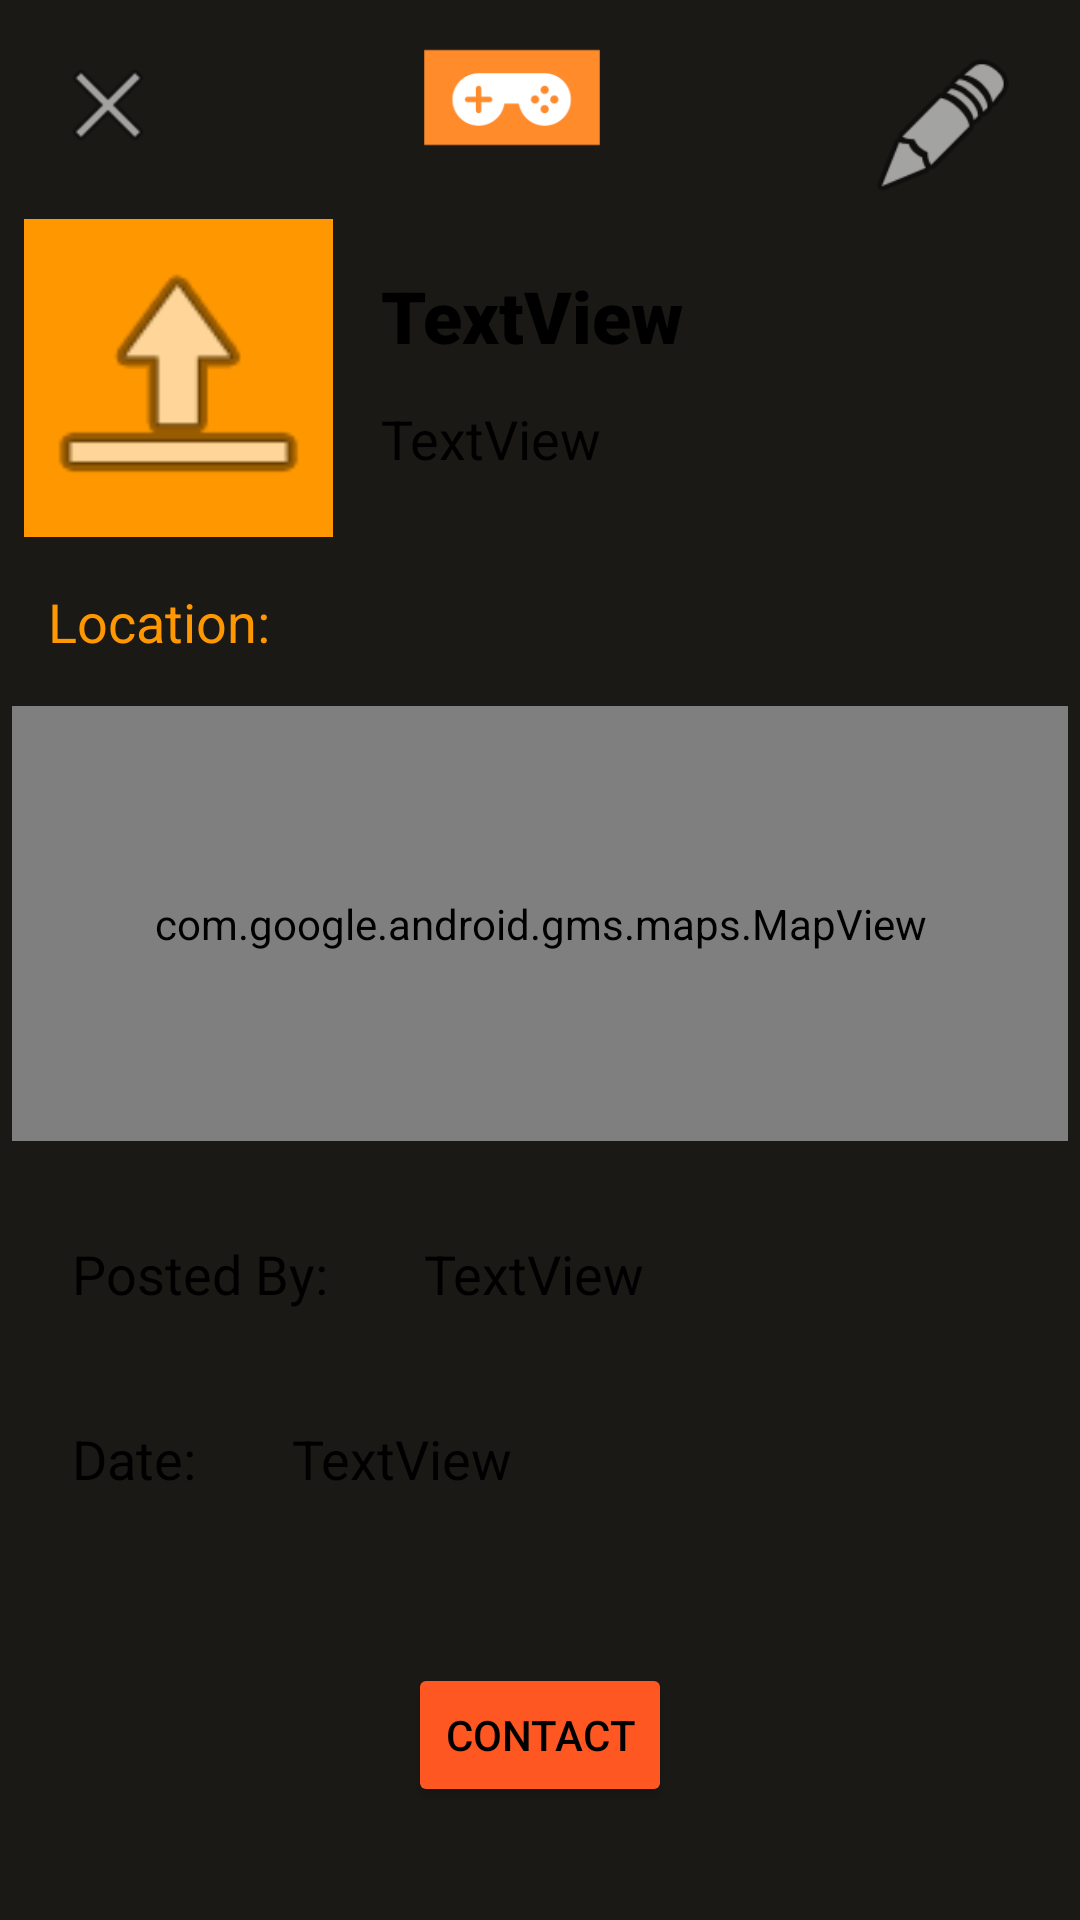

Icons on this 1080px x 1920px Android screen, each with its box as rect(x1, y1, x2, y2):
close clear cancel: rect(76, 73, 140, 137)
edit: rect(882, 64, 1004, 186)
upload: rect(24, 219, 333, 537)
